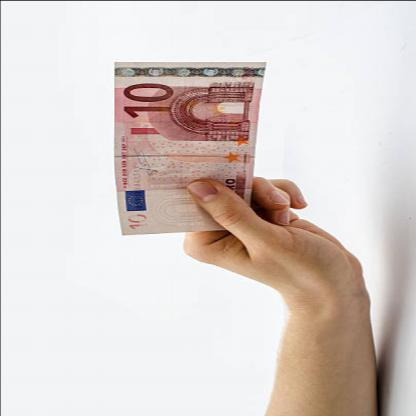euro_banknote: (105, 72, 280, 227)
